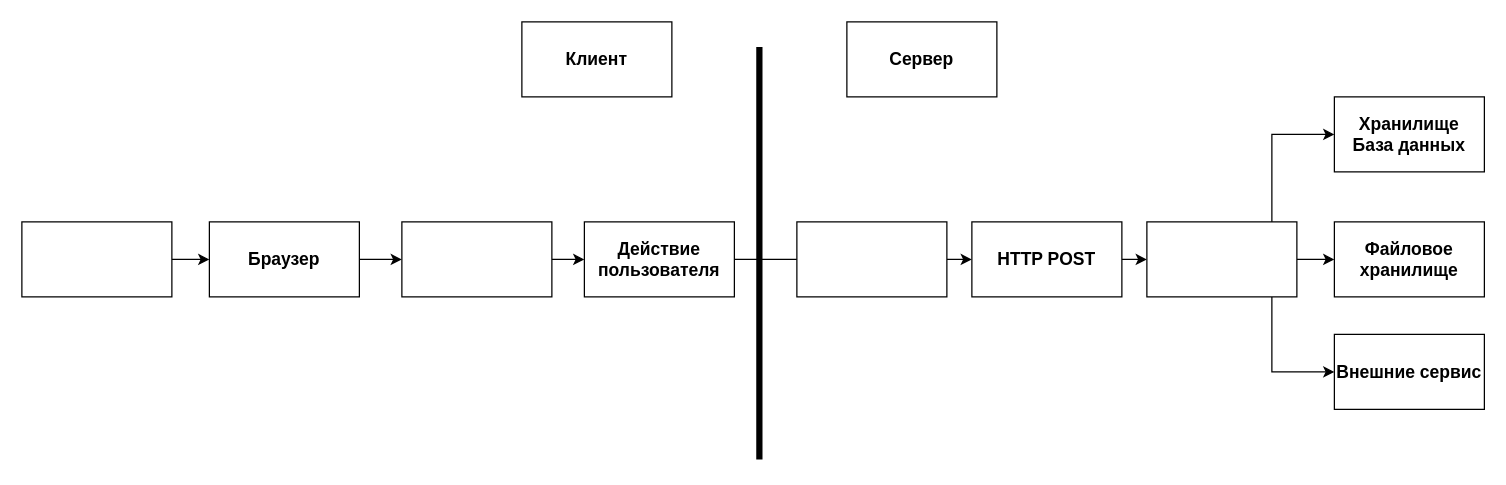
This 1506x485 diagram has some shape labels left out. Here are the shapes that lost their labels. From the top down, the box of each, then its label:
(21, 221, 172, 297): Пользователь
(401, 221, 552, 297): Интерфейс
(796, 221, 947, 297): Клиентская часть JS
(1146, 221, 1297, 297): API
